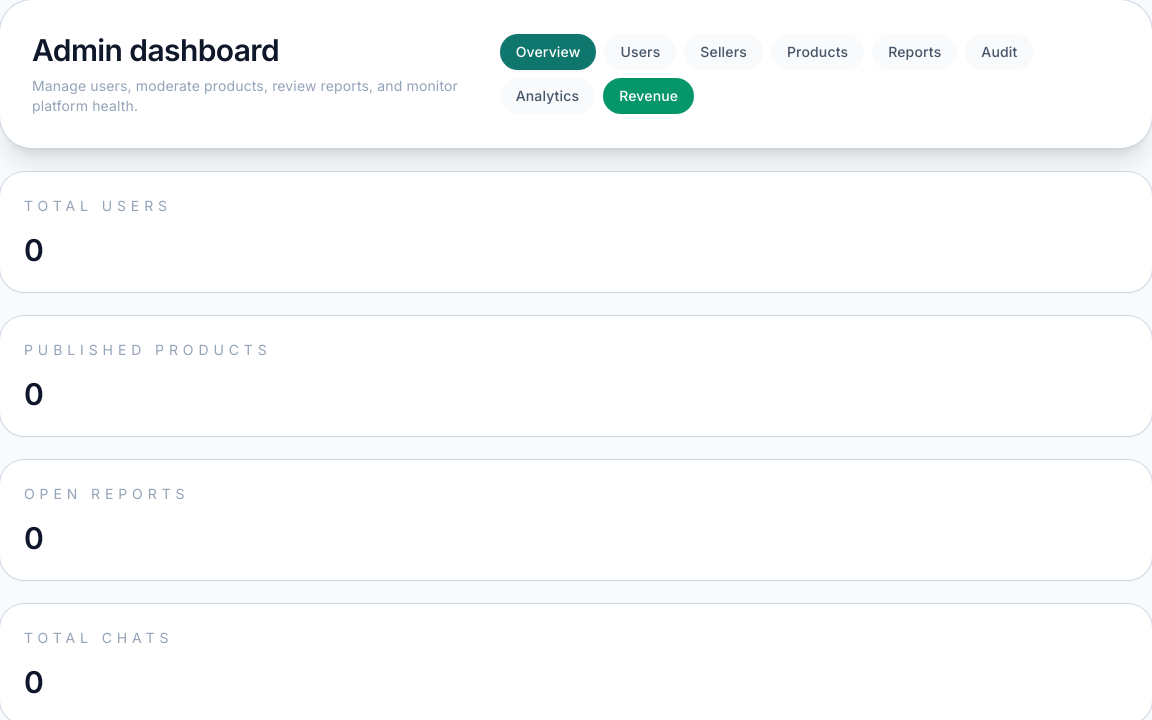
Test: AdminDashboardPage › renders audit logs when the audit tab is selected
Click the button "Audit".
click(999, 52)  # box [965,34,1033,70]
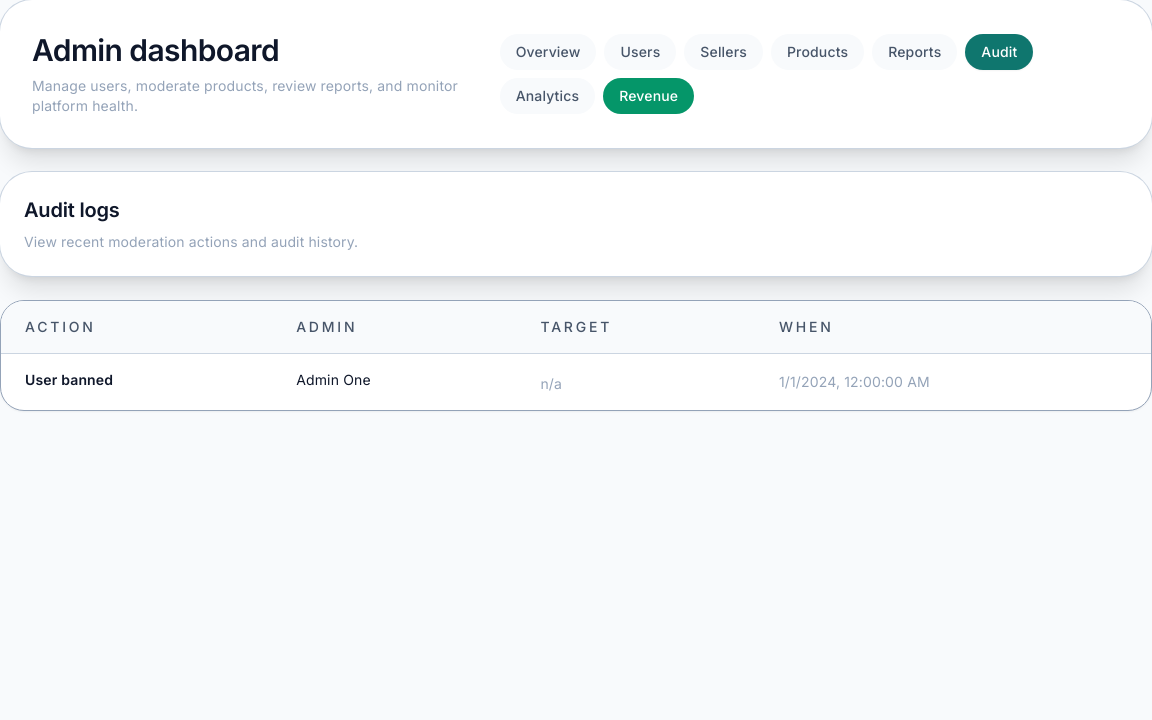
expect the text "User banned" is shown: met, box [25,371,113,388]
